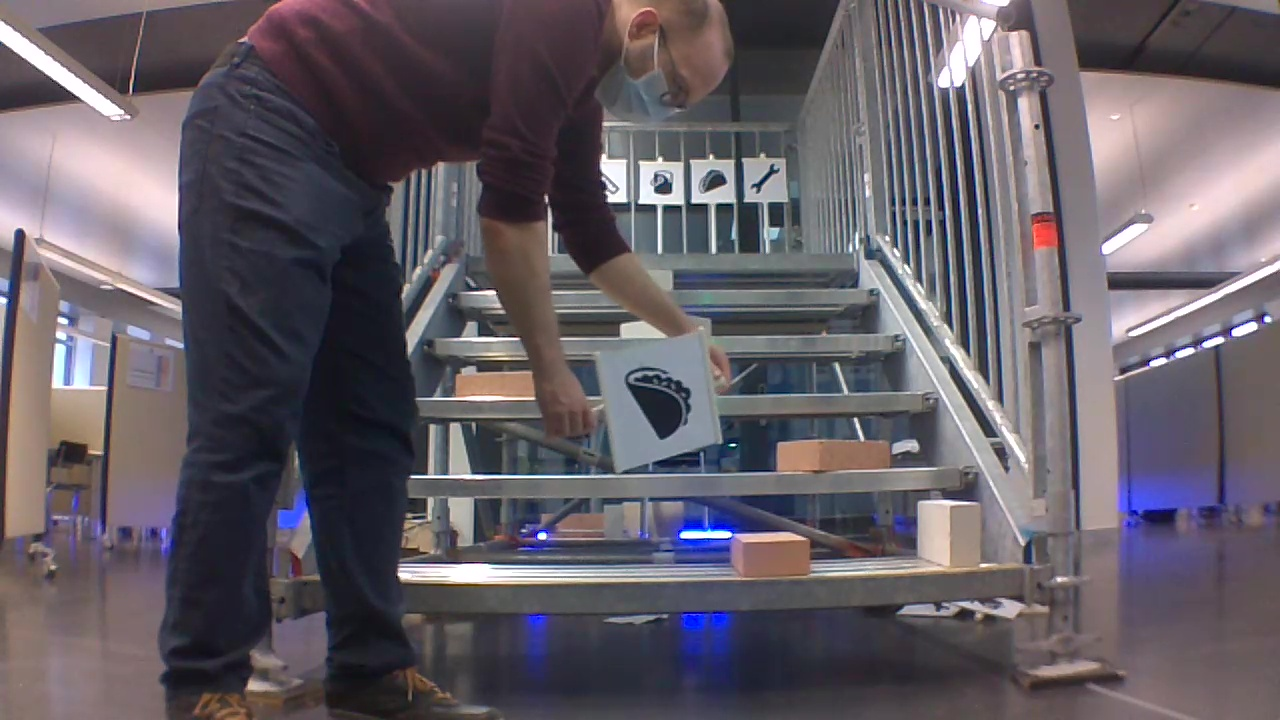brick: (917, 499, 982, 568), (777, 439, 887, 471), (730, 532, 807, 576), (455, 370, 533, 396)
bucket: (644, 167, 678, 196)
edge: (405, 565, 1025, 612), (417, 469, 978, 494)
taco: (612, 360, 698, 444), (697, 167, 727, 194)
wrench: (746, 161, 784, 194)
